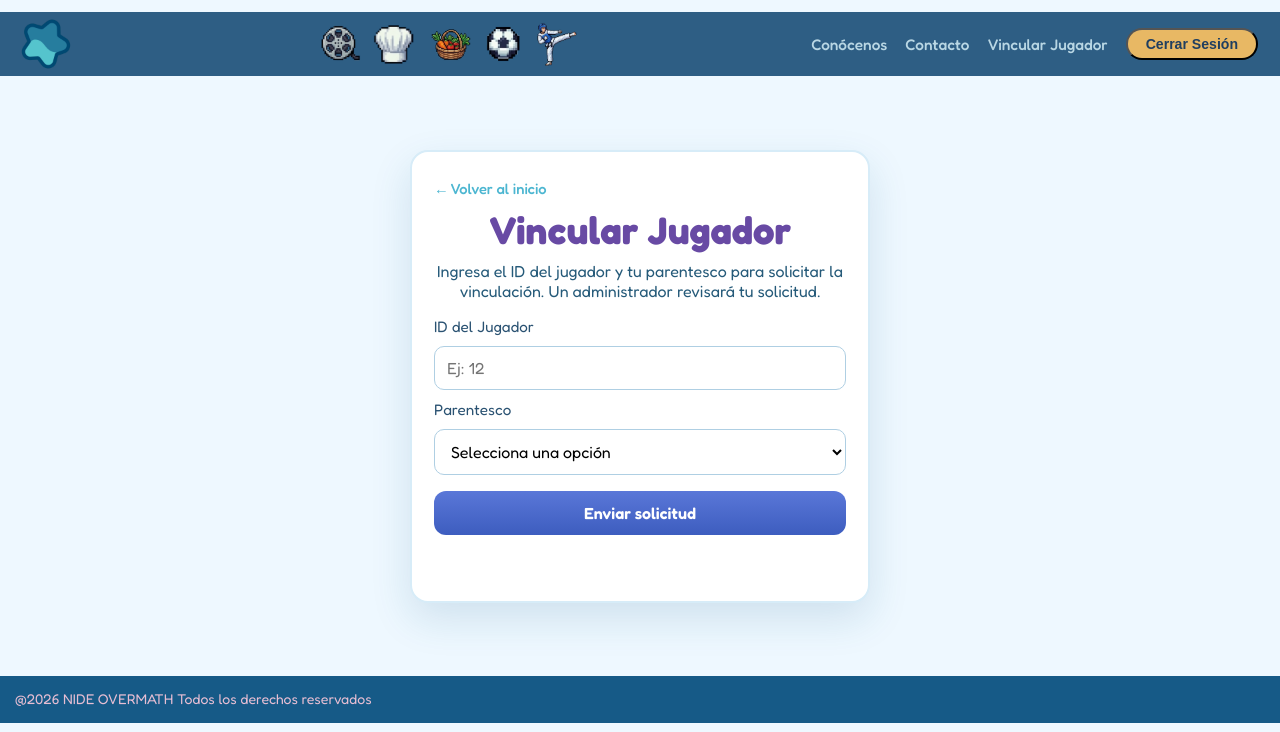
Test: SolicitudVinculacionPage › envía solicitud exitosamente con los datos correctos
The width and height of the screenshot is (1280, 732).
Type "42" into the number field labelled "ID del Jugador" at (640, 368), box x1=434 y1=346 x2=846 y2=390
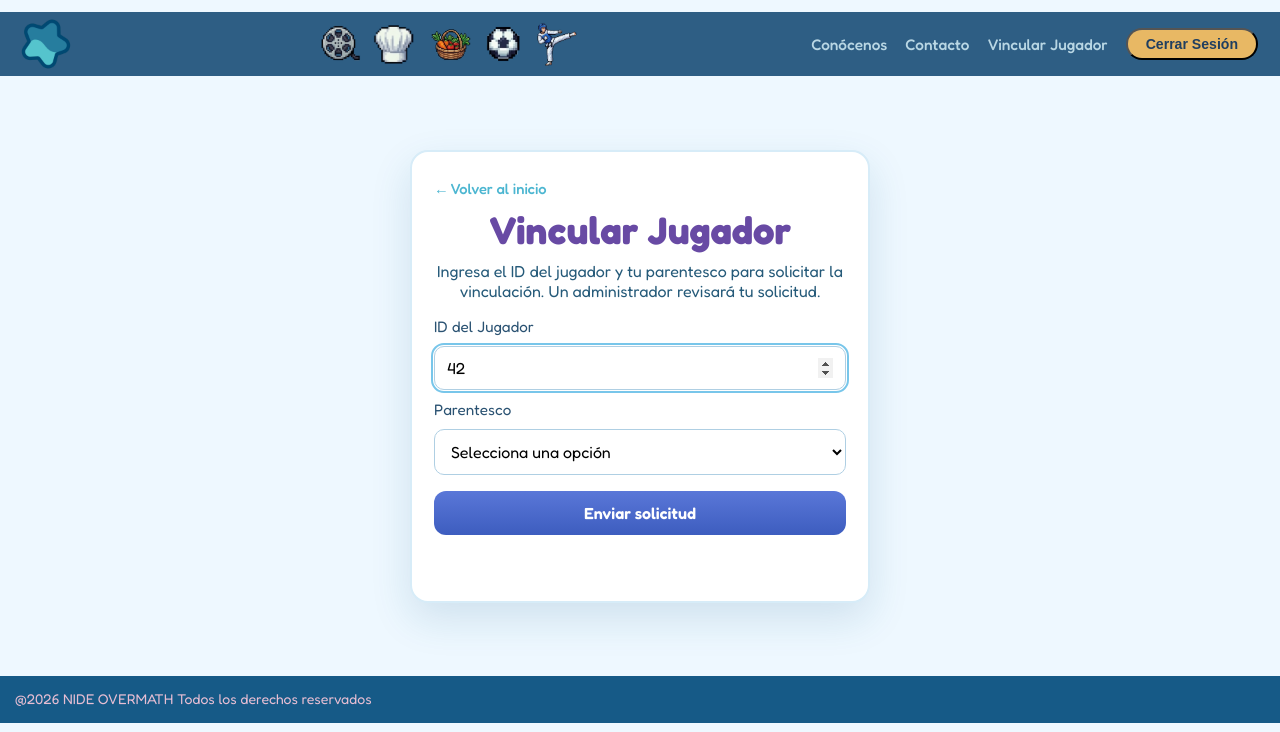
Select "Madre" in the dropdown labelled "Parentesco" at (640, 452), box x1=434 y1=428 x2=846 y2=474
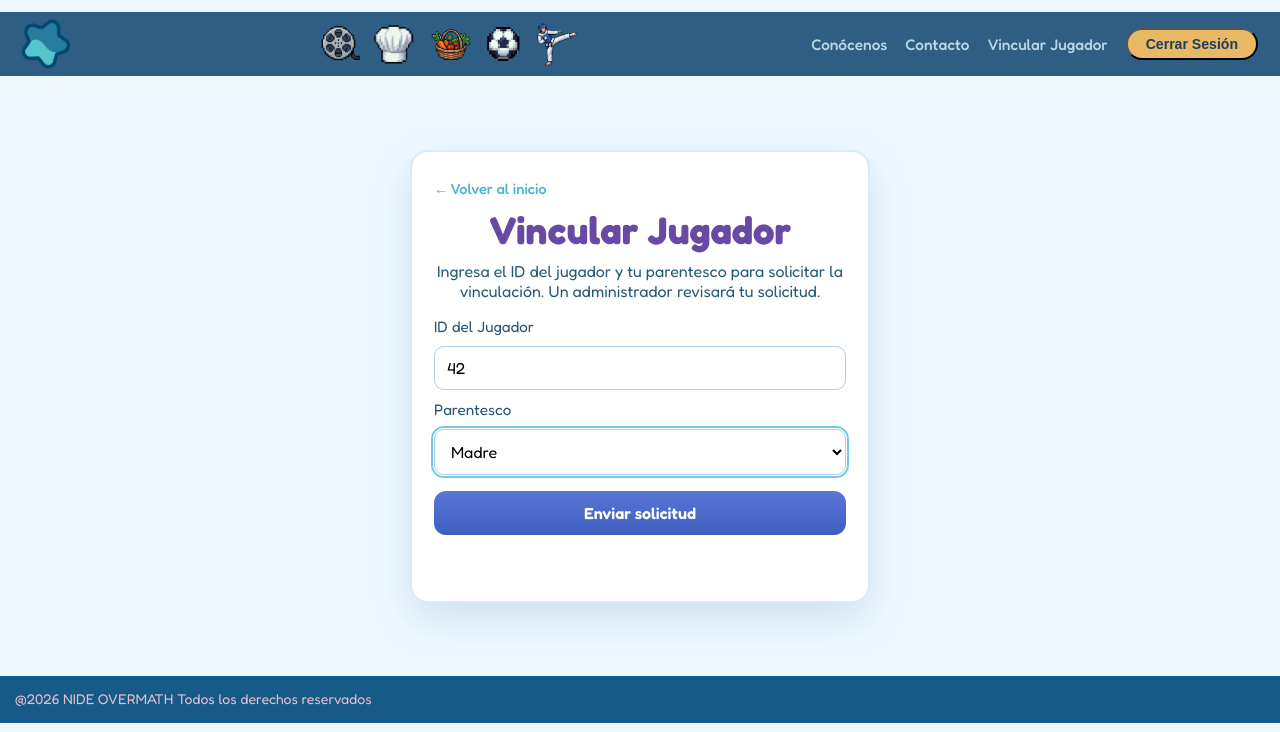
Click the button "Enviar solicitud" at (640, 512), box x1=434 y1=490 x2=846 y2=534
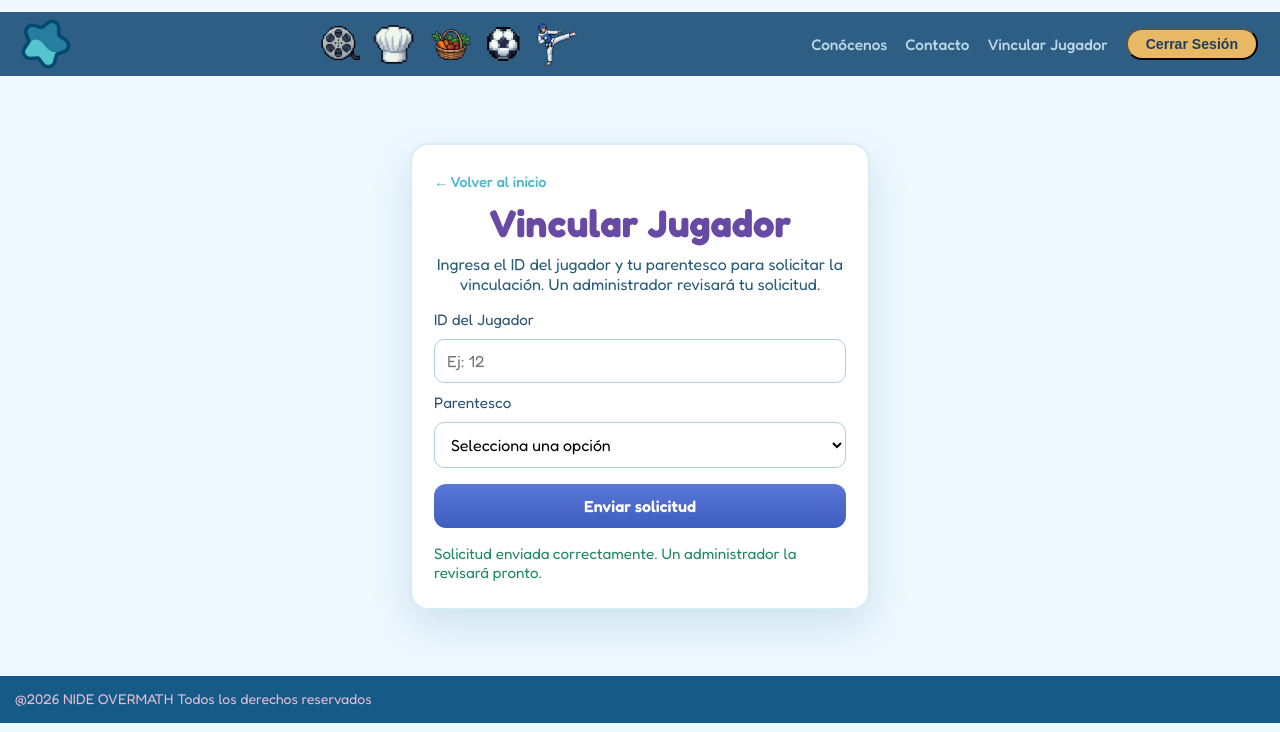
Expected: the message reads "Solicitud enviada correctamente. Un administrador la revisará pronto.", x1=434 y1=544 x2=796 y2=582
